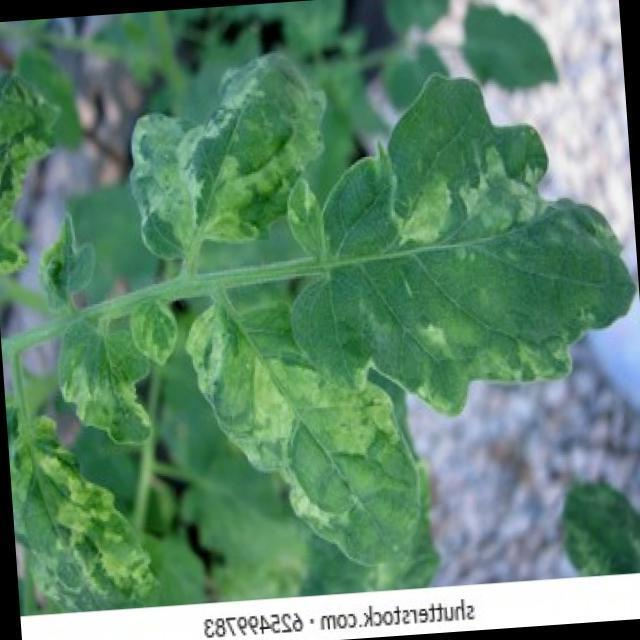Mosaic Virus: (346, 88, 634, 395), (200, 274, 403, 594), (134, 52, 322, 250), (7, 415, 152, 615), (65, 312, 152, 470), (0, 56, 53, 279), (125, 292, 183, 364)
